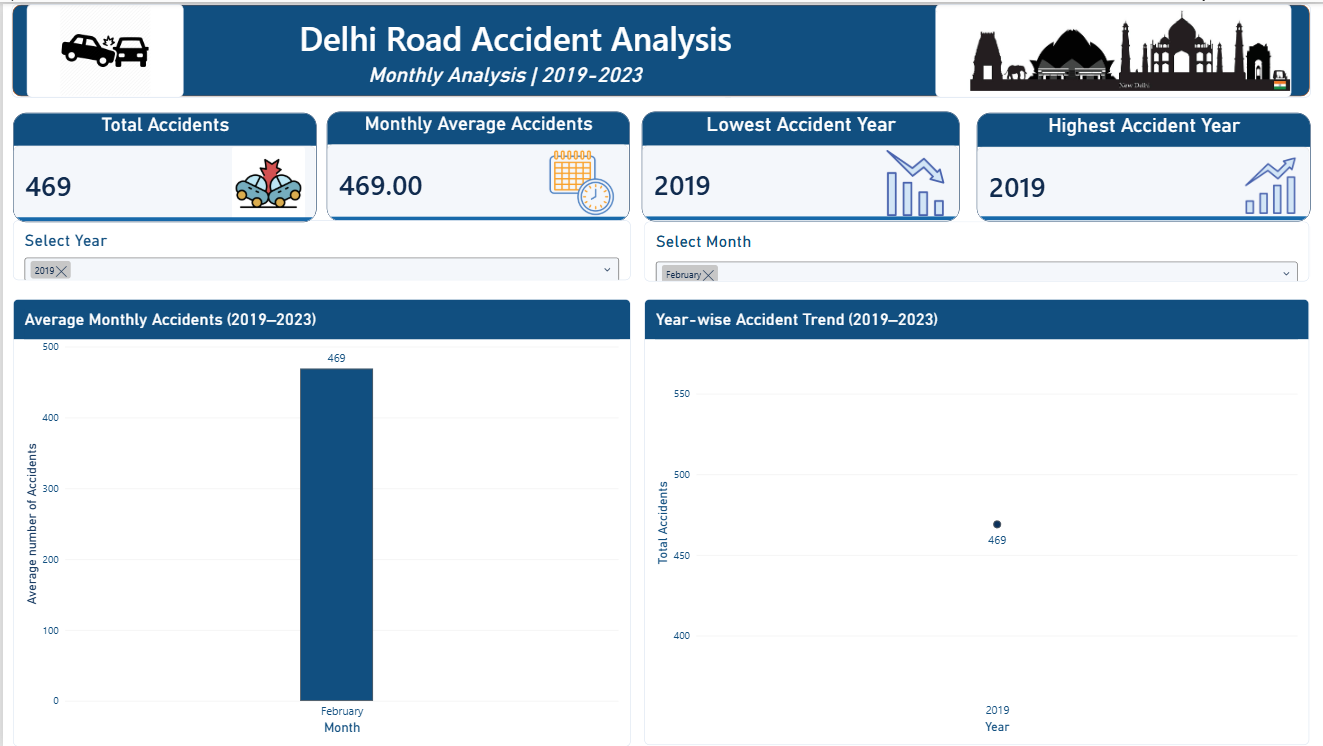

This screenshot's page, from the dashboard's own definition file:
{"tool":"powerbi","page":{"name":"monthly","canvas":[1920,1080],"ordinal":0},"visuals":[{"type":"cardVisual","title":"Monthly Average Accidents","fields":{"Data":["DimYear.Average Monthly Accidents"]},"box":[470.5,156.1,441,160.4],"z":1000},{"type":"cardVisual","title":"Highest Accident Year","fields":{"Data":["DimYear.Highest Accident Year Display"]},"box":[1415.7,158.2,485.3,158.2],"z":2000},{"type":"cardVisual","title":"Lowest Accident Year","fields":{"Data":["DimYear.Lowest Accident Year Display"]},"box":[928.4,156.1,462.1,160.4],"z":3000},{"type":"lineChart","title":"\tYear-wise Accident Trend (2019–2023)","fields":{"Category":["DimYear.Year"],"Y":["DimYear.Total Accidents"]},"box":[932.7,429.1,967.3,649.1],"z":4000},{"type":"clusteredColumnChart","title":"\tAverage Monthly Accidents (2019–2023)","fields":{"Category":["Monthly_Accidents.Month"],"Y":["DimYear.Average Monthly Accidents"]},"box":[14.5,429.1,898.2,650.9],"z":5000},{"type":"listSlicer","title":"Select  Year","fields":{"Values":["DimYear.Year"]},"box":[14.5,314.5,898.2,87.3],"z":6000},{"type":"listSlicer","title":"Select Month","fields":{"Values":["Monthly_Accidents.Month"]},"box":[932.7,316.4,967.3,87.3],"z":7000},{"type":"shape","box":[12.7,0,1889.3,135.7],"z":8000},{"type":"textbox","box":[376.4,16.3,738.3,68.8],"z":8001},{"type":"textbox","title":"Monthly Analysis | 2019-2023","box":[401.7,85.1,656.9,50.7],"z":8002},{"type":"image","box":[34.4,0,228,135.7],"z":8003},{"type":"image","box":[1357.2,0,517.6,135.7],"z":8004},{"type":"cardVisual","title":"Total Accidents","fields":{"Data":["DimYear.Total Accidents Display1"]},"box":[14.5,157.4,441.6,159.3],"z":8005}]}

Visuals, with their boxes in screenshot pixels (x1, y1, x2, y2), scaled from the page's 1920x1080 canvas onto the 1323x746 screenshot:
"Monthly Average Accidents" cardVisual: [324, 108, 628, 219]
"Highest Accident Year" cardVisual: [976, 109, 1310, 219]
"Lowest Accident Year" cardVisual: [640, 108, 958, 219]
"	Year-wise Accident Trend (2019–2023)" lineChart: [643, 296, 1309, 745]
"	Average Monthly Accidents (2019–2023)" clusteredColumnChart: [10, 296, 629, 745]
"Select  Year" listSlicer: [10, 217, 629, 278]
"Select Month" listSlicer: [643, 219, 1309, 279]
shape: [9, 0, 1311, 94]
textbox: [259, 11, 768, 59]
"Monthly Analysis | 2019-2023" textbox: [277, 59, 729, 94]
image: [24, 0, 181, 94]
image: [935, 0, 1292, 94]
"Total Accidents" cardVisual: [10, 109, 314, 219]
